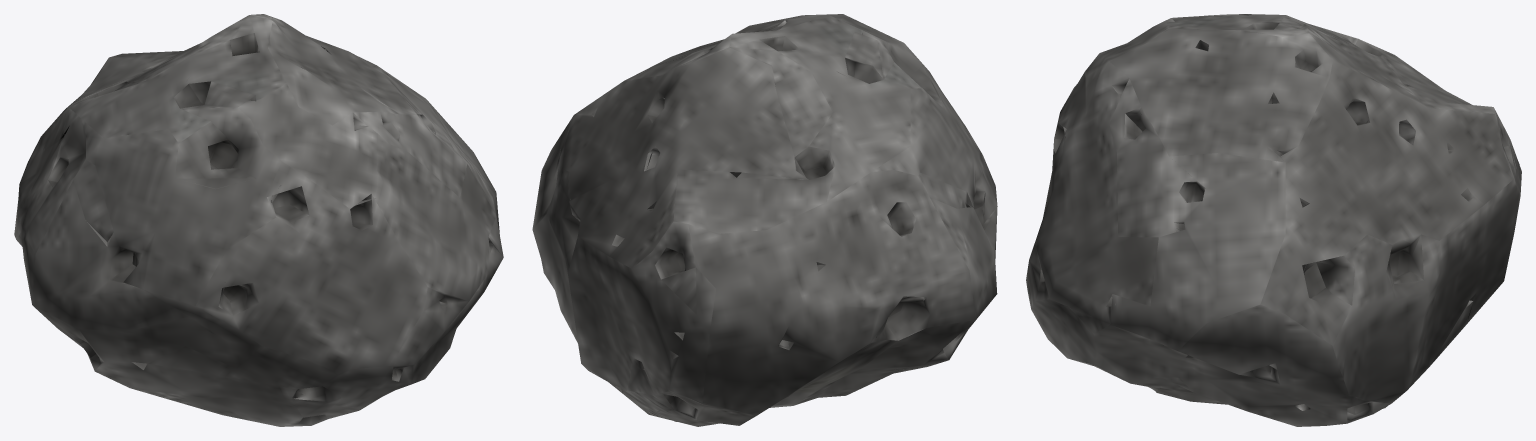
File: rock_94581385_lod0m.glb
3 renders of one model, left to right at view 1: azimuth 30°, elevation 25°; view 2: azimuth 150°, elevation 25°; view 3: azimuth 270°, elevation 25°, orthographic.
Size of the model in its own units: 2.4 by 1.86 by 2.35.
1 material, 1 textured.
